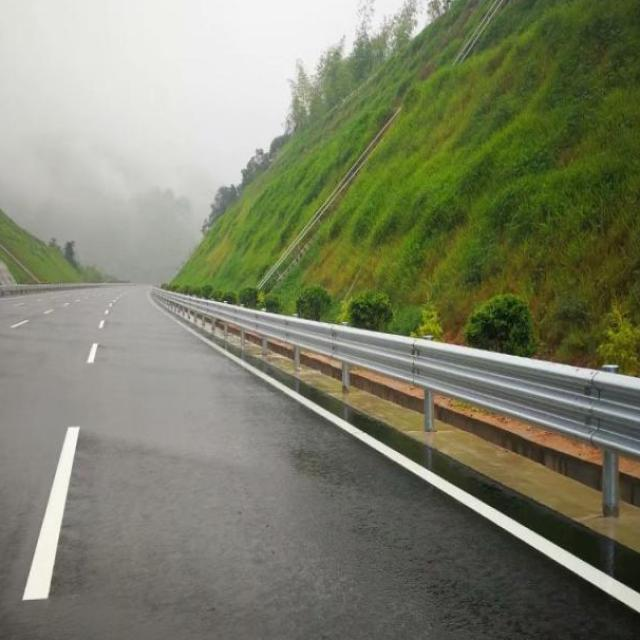Guard rail: (153, 288, 640, 459)
